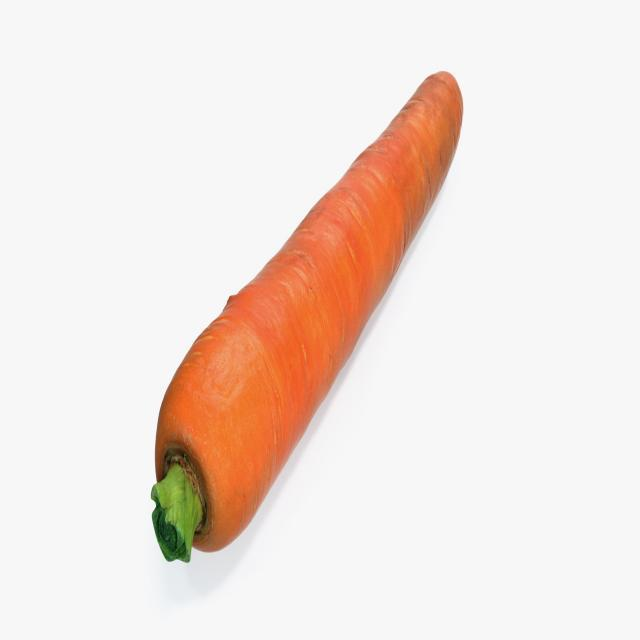carrot: (148, 60, 466, 581)
